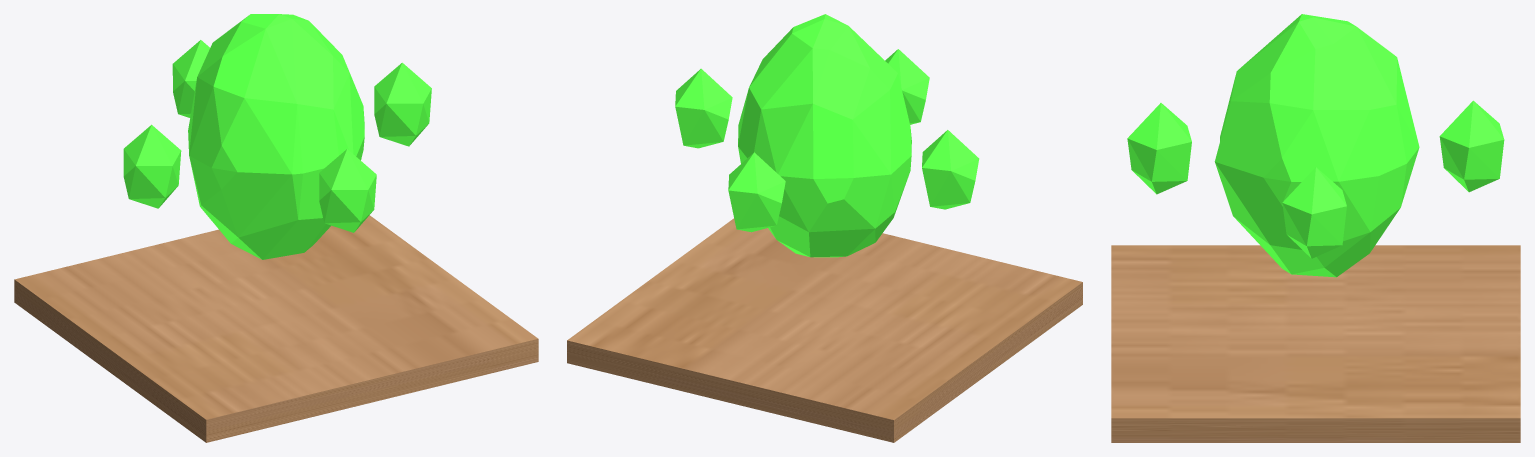
The model's file is Diffuser.fbx.
The picture shows the model from 3 angles, left to right: view 1: azimuth 30°, elevation 25°; view 2: azimuth 150°, elevation 25°; view 3: azimuth 270°, elevation 25°; orthographic projection. The views are drawn at different scales.
Visible parts, largest first — view 1: Cube, Icosphere, Icosphere.002, Icosphere.001, Icosphere.004, Icosphere.003; view 2: Cube, Icosphere, Icosphere.001, Icosphere.003, Icosphere.002, Icosphere.004; view 3: Cube, Icosphere, Icosphere.001, Icosphere.003, Icosphere.004.
Boxes of the visible parts, x1,y1,x2,y2 form: Cube: [14, 215, 538, 442]; Icosphere: [188, 14, 364, 259]; Icosphere.002: [123, 124, 181, 208]; Icosphere.001: [374, 62, 431, 146]; Icosphere.004: [319, 149, 376, 232]; Icosphere.003: [172, 40, 209, 117]; Cube: [567, 218, 1082, 442]; Icosphere: [738, 14, 911, 257]; Icosphere.001: [675, 68, 732, 148]; Icosphere.003: [728, 152, 785, 232]; Icosphere.002: [922, 130, 979, 209]; Icosphere.004: [885, 49, 929, 124]; Cube: [1111, 245, 1520, 442]; Icosphere: [1214, 14, 1419, 277]; Icosphere.001: [1282, 167, 1346, 258]; Icosphere.003: [1439, 100, 1504, 192]; Icosphere.004: [1127, 103, 1191, 194].
Size of the model in its own units: 395 by 362 by 395.
